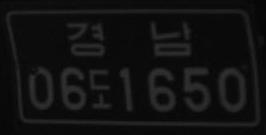0: (217, 67, 247, 113), (29, 65, 54, 112)
1: (115, 66, 139, 112)
5: (182, 65, 211, 113)
6: (146, 66, 177, 112), (59, 66, 87, 111)
경남_D: (65, 21, 193, 58)
도: (87, 67, 113, 109)
